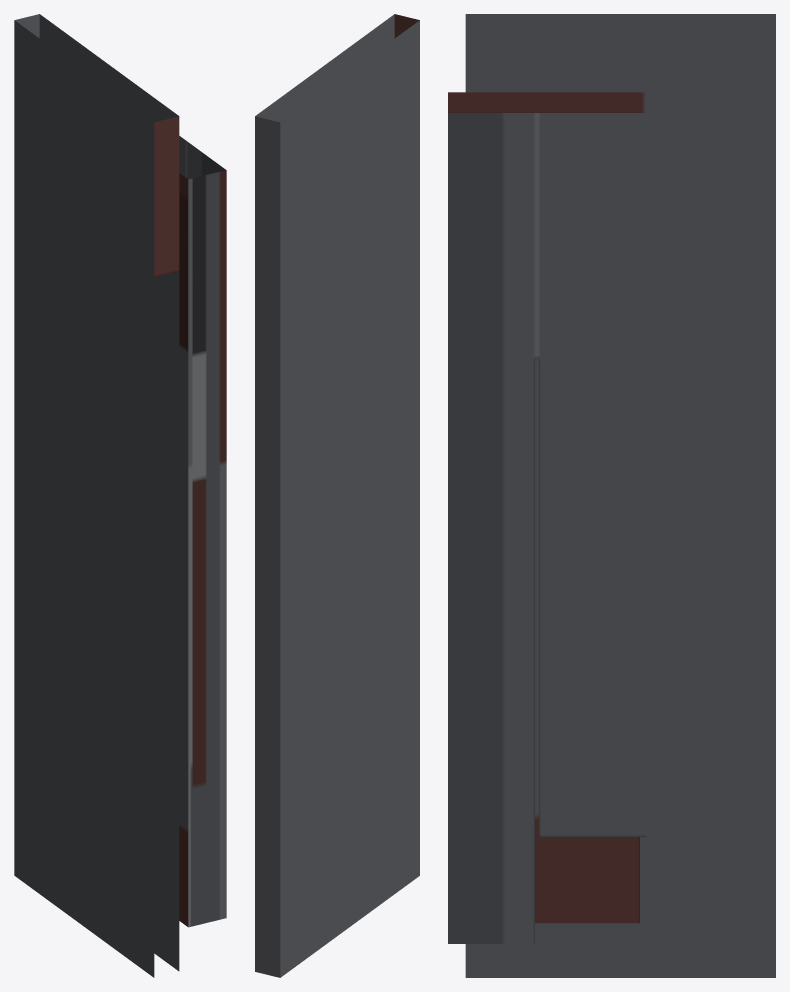
Rendered from section-0.obj.
3 views of the same model, side by side, from view 1: azimuth 30°, elevation 25°; view 2: azimuth 150°, elevation 25°; view 3: azimuth 270°, elevation 25° (orthographic). The views are drawn at different scales.
Size of the model in its own units: 0.0541 by 0.6863 by 0.2146.
